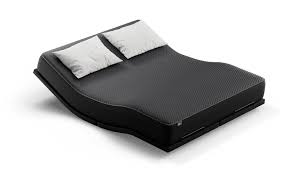bed-matress: (37, 17, 267, 149)
